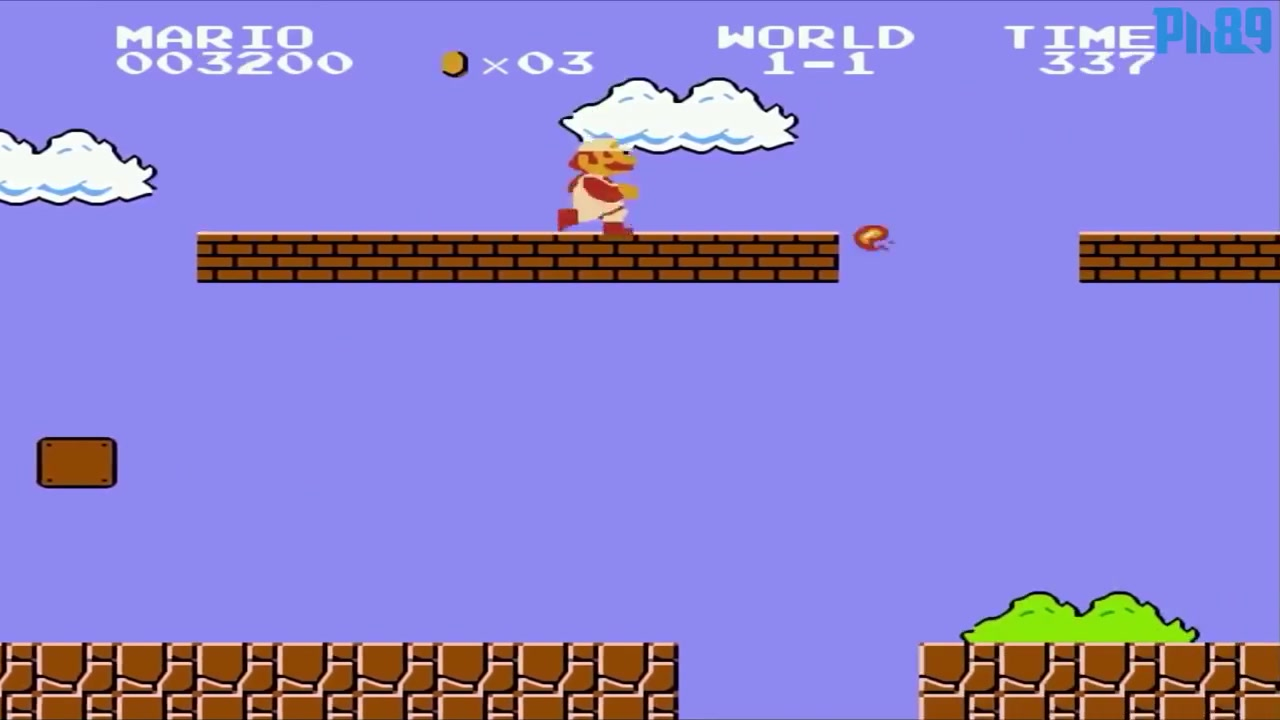mario: (548, 135, 642, 245)
